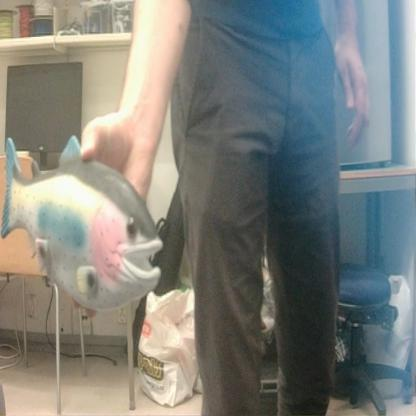rubberfish: (0, 131, 166, 312)
